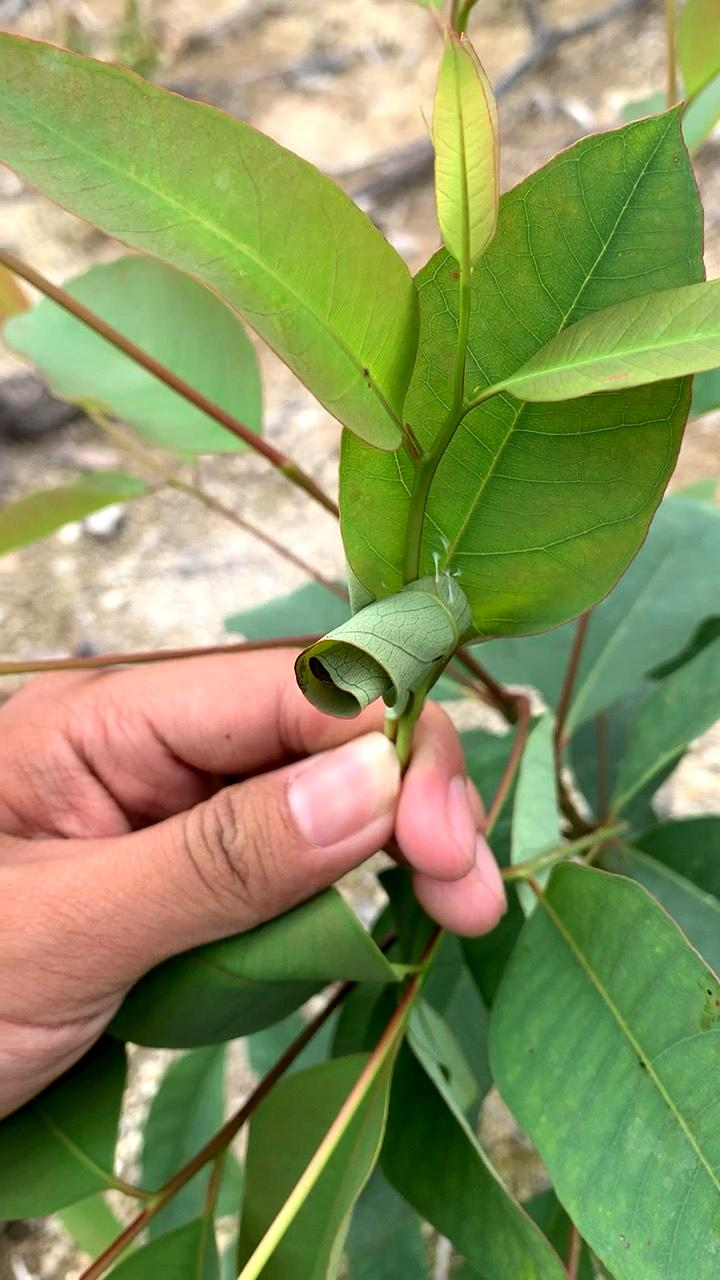Leaf Roller - Leaf: (267, 541, 543, 768)
